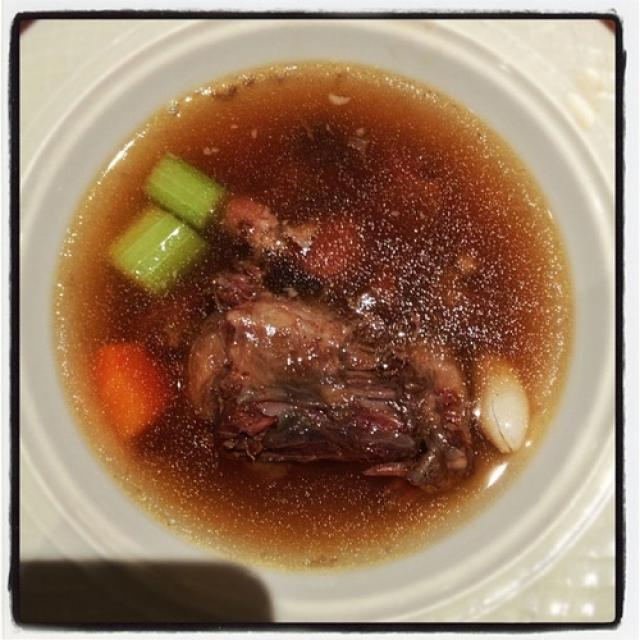汤锅炖物: (37, 42, 613, 586)
